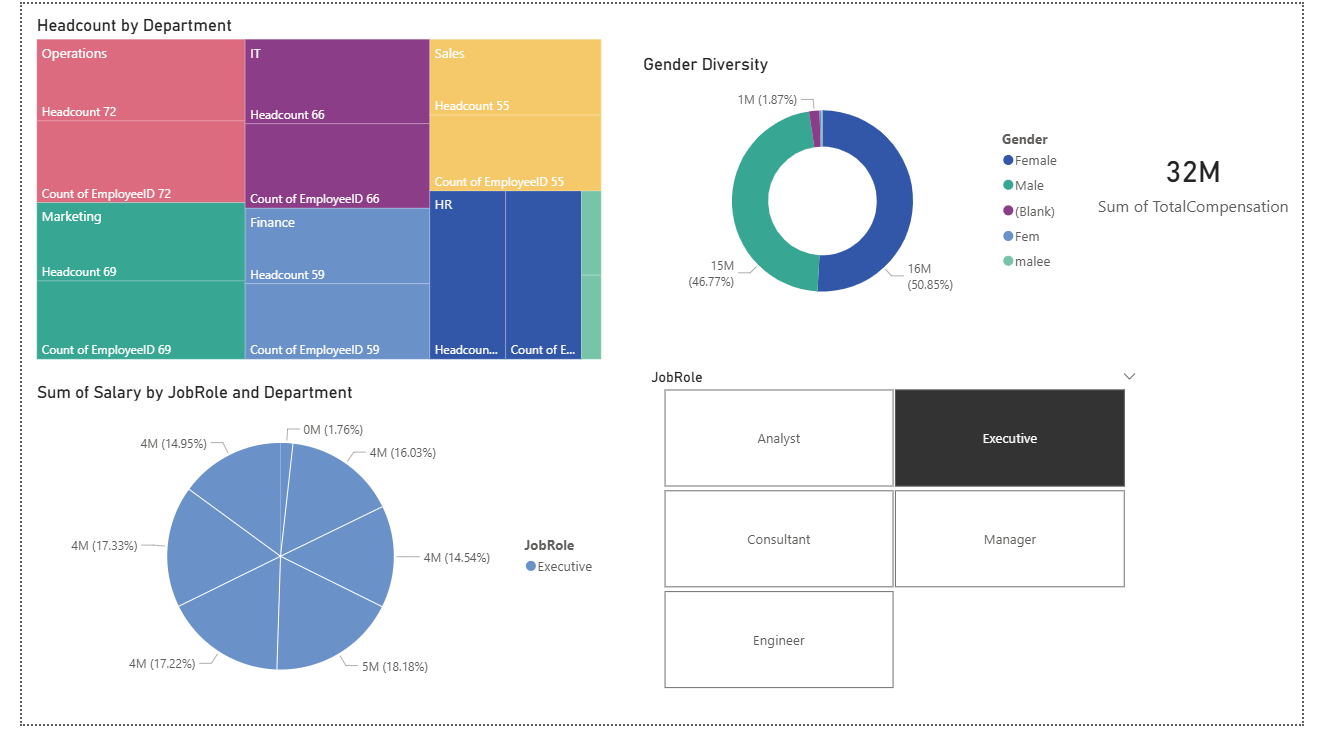

Layout of this report page (visuals, bound fields, positions):
{"tool":"powerbi","page":{"name":"Page 1","canvas":[1280,720],"ordinal":0},"visuals":[{"type":"treemap","title":"Headcount by Department","fields":{"Group":["Sheet1.Department"],"Values":["Sheet1.Headcount","CountNonNull(Sheet1.EmployeeID)"]},"box":[10,11.4,574.4,349.2],"z":0},{"type":"pieChart","fields":{"Category":["Sheet1.JobRole"],"Y":["Sum(Sheet1.Salary)"],"Series":["Sheet1.Department"]},"box":[10,377.7,574.4,330.7],"z":1},{"type":"donutChart","title":"Gender Diversity","fields":{"Category":["Sheet1.Gender"],"Y":["Sum(Sheet1.TotalCompensation)"]},"box":[615.8,49.9,434.7,275.1],"z":2},{"type":"slicer","fields":{"Values":["Sheet1.JobRole"]},"box":[615.8,360.6,510.3,330.7],"z":3},{"type":"card","fields":{"Values":["Sum(Sheet1.TotalCompensation)"]},"box":[1061.9,38.5,218.1,275.1],"z":4}]}

Visuals, with their boxes in screenshot pixels (x1, y1, x2, y2), scaled from the page's 1280x720 canvas onto the 1327x730 screenshot:
"Headcount by Department" treemap: (x1=10, y1=12, x2=606, y2=366)
pieChart - Sheet1.JobRole x Sum(Sheet1.Salary): (x1=10, y1=383, x2=606, y2=718)
"Gender Diversity" donutChart: (x1=638, y1=51, x2=1089, y2=330)
slicer - Sheet1.JobRole: (x1=638, y1=366, x2=1167, y2=701)
card - Sum(Sheet1.TotalCompensation): (x1=1101, y1=39, x2=1326, y2=318)
